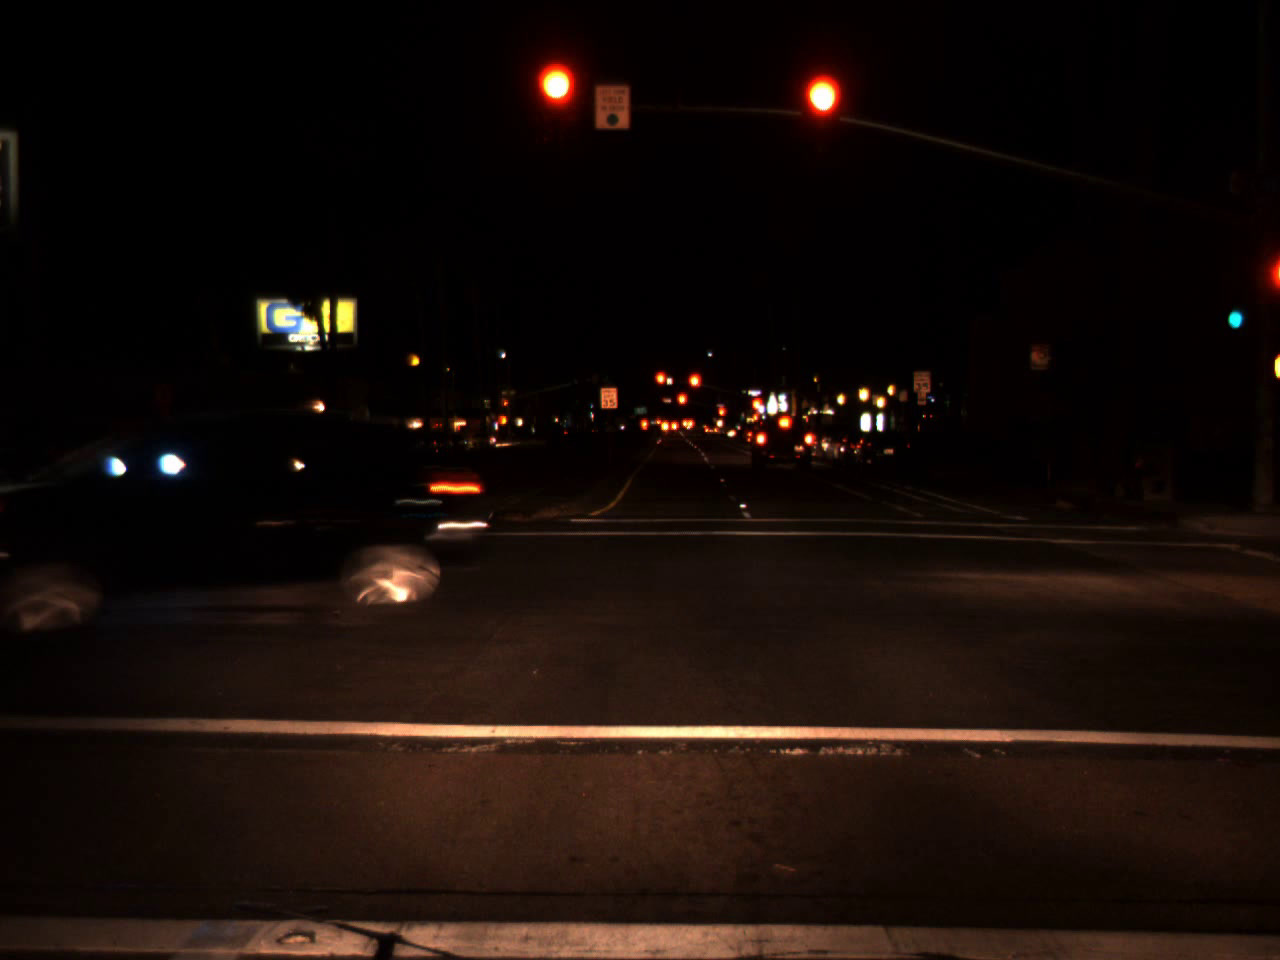stop: (537, 65, 577, 143), (802, 76, 841, 154), (686, 372, 702, 401), (653, 370, 668, 399), (747, 395, 765, 419), (675, 391, 688, 418), (717, 406, 727, 424), (502, 401, 508, 411)
